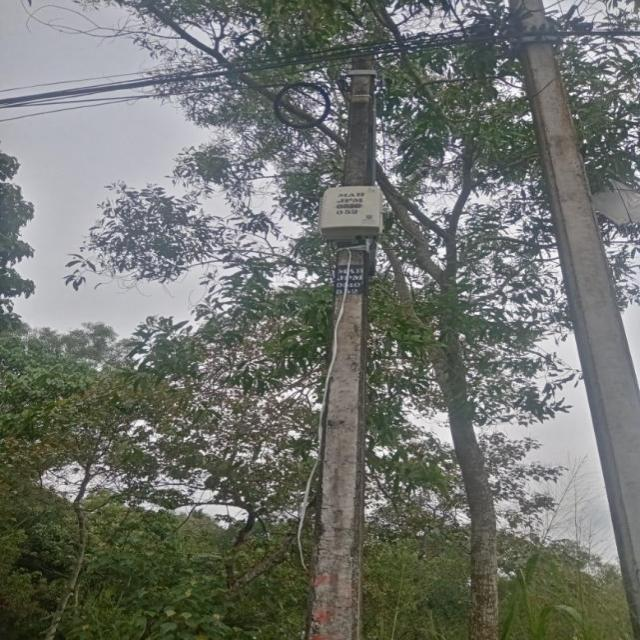light_pole: (296, 51, 402, 640)
